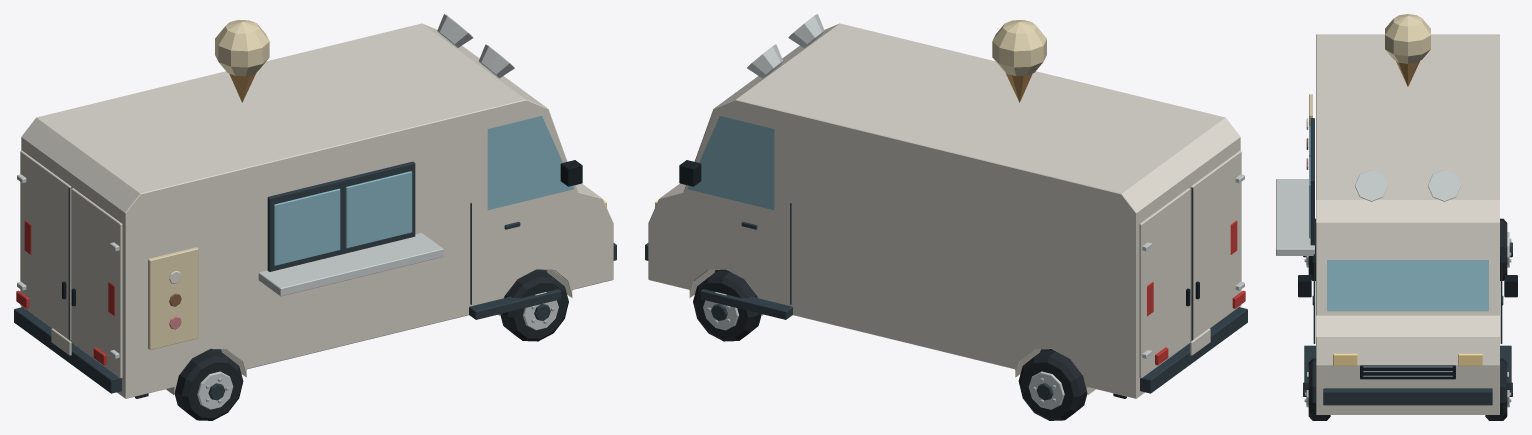
Rendered from b15_ice_cream_truck.glb.
The picture shows the model from 3 angles, left to right: view 1: azimuth 30°, elevation 25°; view 2: azimuth 150°, elevation 25°; view 3: azimuth 270°, elevation 25°; orthographic projection. The views are drawn at different scales.
Visible parts, largest first — view 1: b15_ice_cream_truck; view 2: b15_ice_cream_truck; view 3: b15_ice_cream_truck.
Boxes of the visible parts, left/top/right/bottom form: b15_ice_cream_truck: left=14, top=14, right=616, bottom=420; b15_ice_cream_truck: left=645, top=14, right=1247, bottom=420; b15_ice_cream_truck: left=1276, top=14, right=1517, bottom=420.
Bounding box in the file's own units: 6.1 × 3.88 × 2.85.
